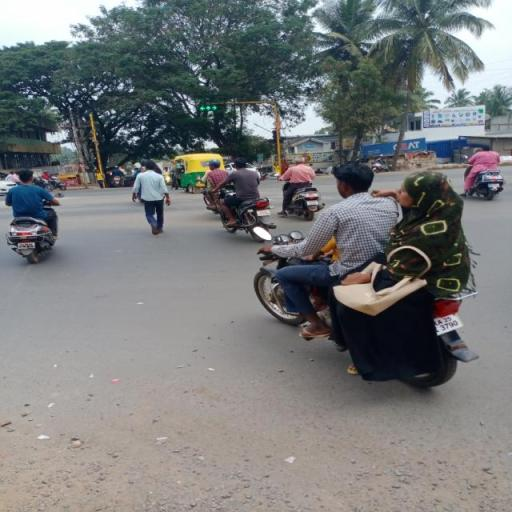bike: (234, 154, 490, 392)
numberplate: (426, 309, 467, 337)
withouthelmet: (398, 172, 446, 208), (334, 162, 374, 196)
